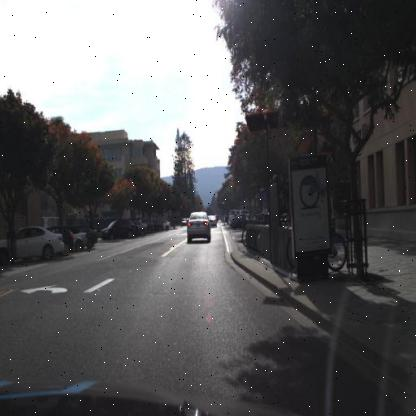car: (1, 224, 67, 265), (42, 223, 76, 256), (98, 214, 139, 240), (183, 207, 212, 243), (206, 214, 218, 229)
